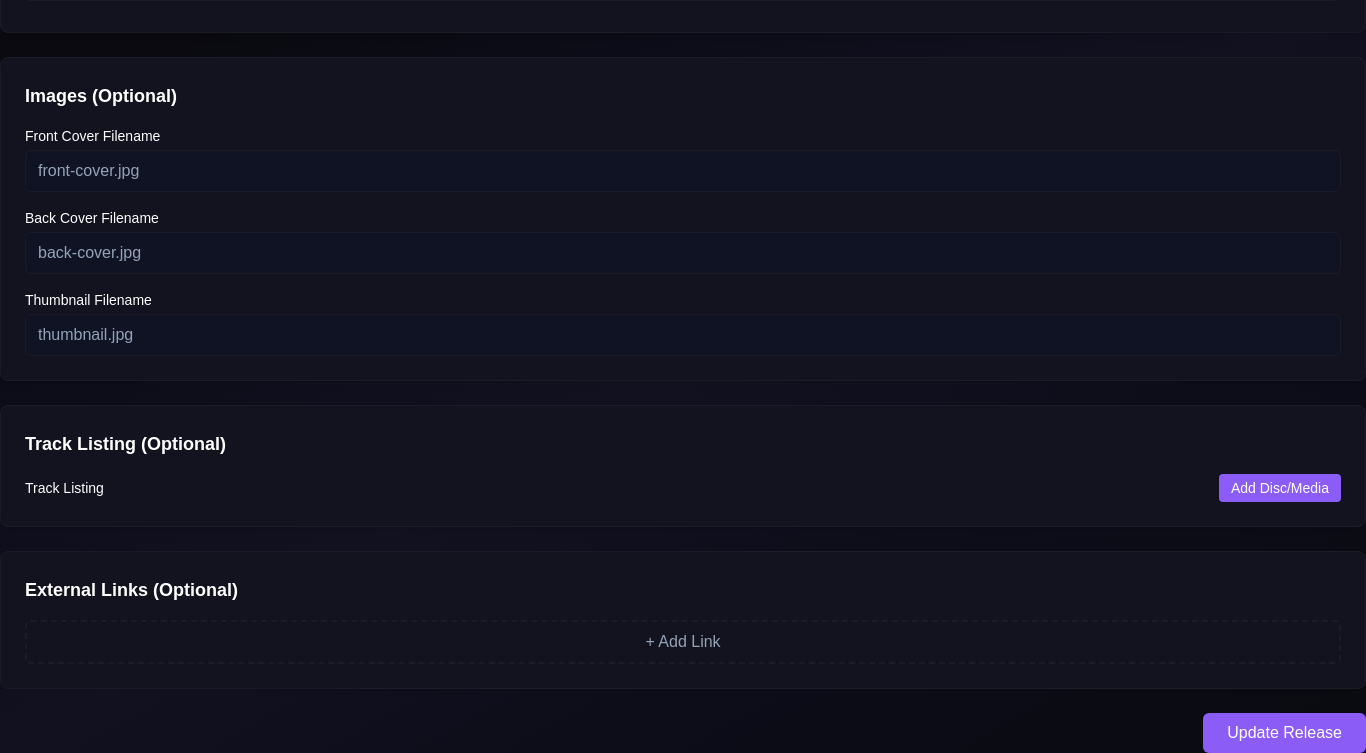
AddReleaseForm - Edit Mode › shows artist validation error when no artist is selected
The image size is (1366, 753).
(page scrolled)
Click the button "Update Release": [1285, 733] box [1203,713,1365,752]
(page scrolled)
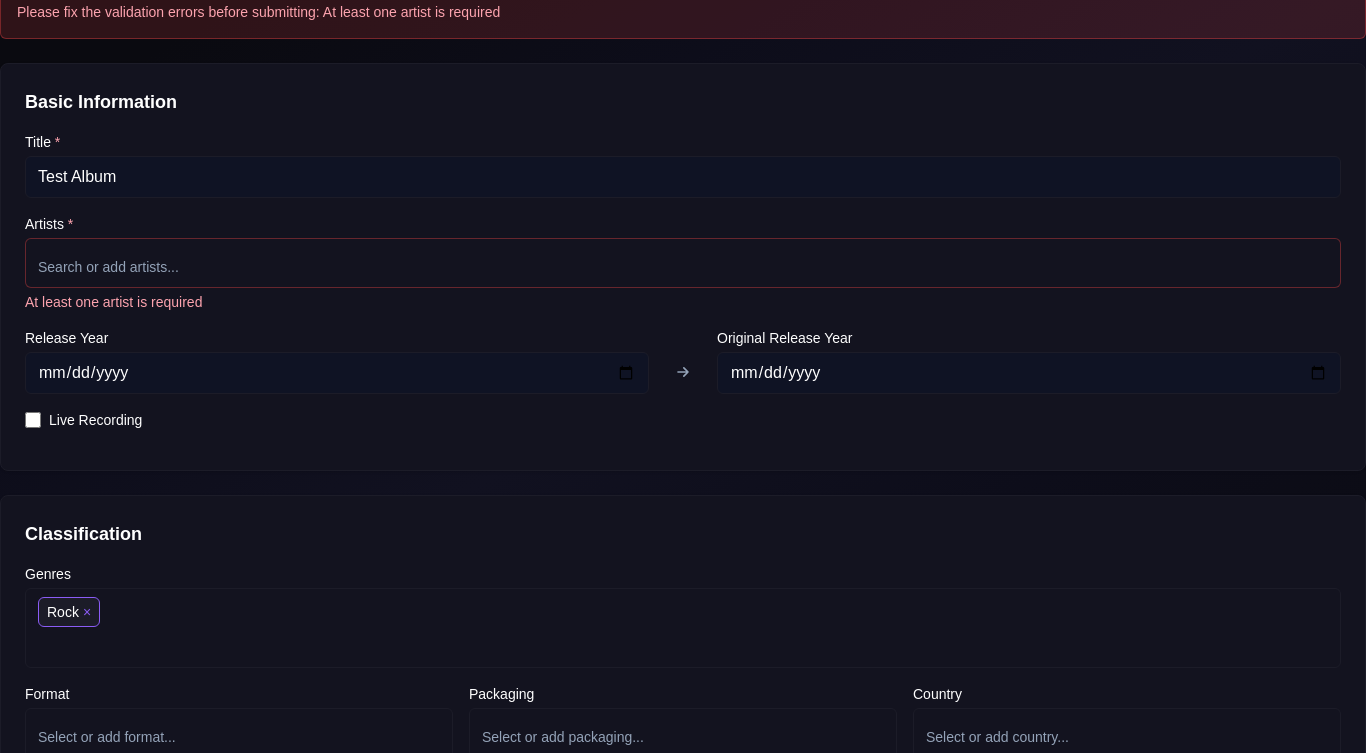
Now the message shows "at least one artist is required", box [17,4,500,20]
